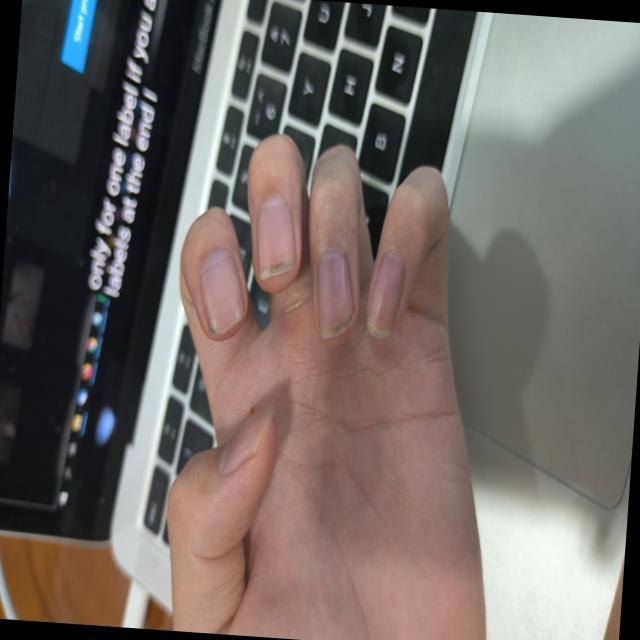Nail: (201, 251, 245, 332), (219, 409, 273, 474), (317, 245, 353, 336), (367, 249, 403, 337), (257, 196, 295, 278)
